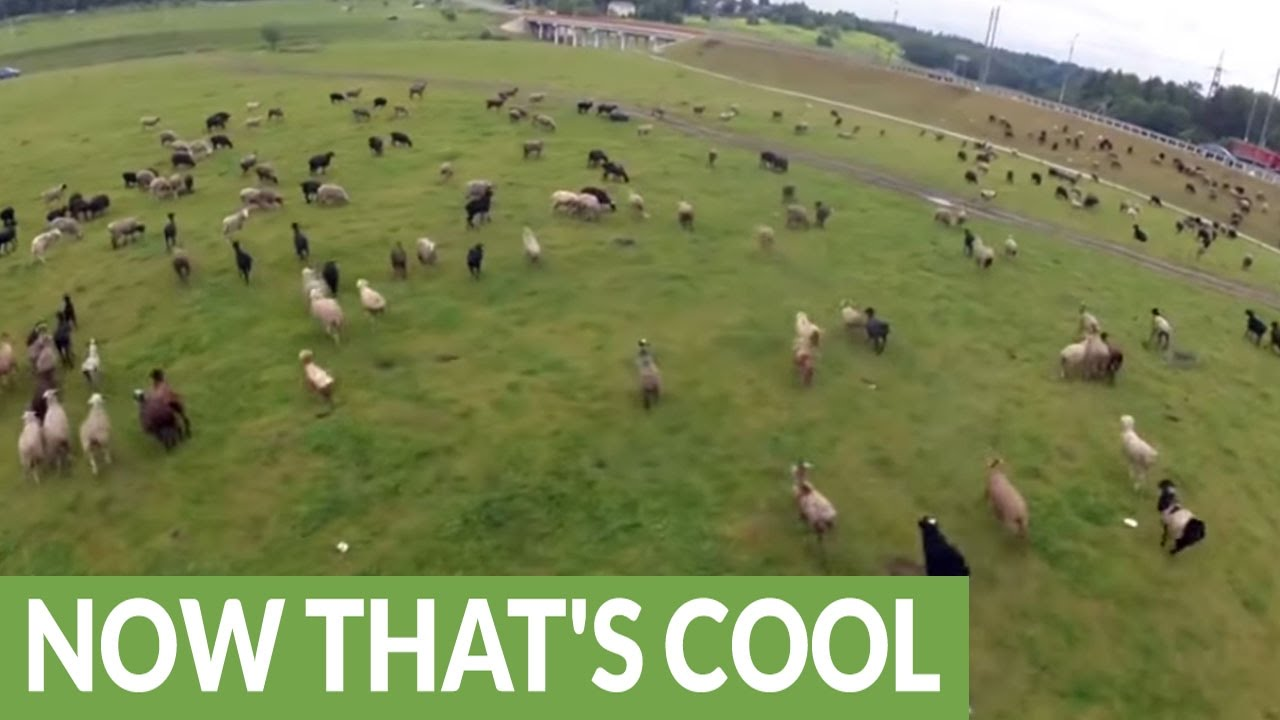sheep: (980, 438, 1047, 532), (922, 509, 979, 589), (1104, 413, 1164, 484), (300, 343, 361, 411), (779, 457, 829, 532), (1150, 479, 1200, 554), (154, 375, 200, 452), (11, 407, 54, 488), (780, 311, 830, 373), (19, 320, 57, 396), (1052, 338, 1114, 384), (82, 404, 120, 479), (623, 338, 661, 407), (47, 388, 89, 447), (134, 398, 177, 454), (67, 330, 111, 384), (238, 180, 298, 219), (352, 272, 394, 324), (192, 108, 244, 150), (1145, 300, 1193, 345), (859, 304, 900, 356), (1095, 337, 1137, 379), (454, 182, 490, 226), (242, 160, 290, 192), (29, 224, 62, 266), (51, 291, 76, 346), (597, 160, 646, 188), (206, 208, 246, 240), (1232, 304, 1266, 341), (679, 197, 710, 237), (310, 301, 340, 342), (225, 245, 255, 285), (776, 203, 807, 241), (416, 232, 444, 274), (159, 168, 203, 194), (702, 145, 733, 181), (169, 248, 196, 289), (52, 187, 78, 229), (302, 145, 335, 178), (318, 178, 350, 212), (508, 221, 532, 266), (164, 128, 192, 166), (559, 188, 597, 216), (325, 84, 375, 104), (621, 113, 658, 139), (44, 166, 73, 199), (388, 129, 421, 158), (255, 106, 298, 128), (464, 239, 488, 276), (85, 190, 112, 222), (516, 130, 540, 165), (965, 230, 995, 258), (287, 230, 310, 266), (292, 259, 314, 296), (107, 218, 133, 249), (621, 191, 647, 222), (759, 152, 796, 173), (364, 141, 388, 173), (480, 91, 510, 116), (690, 104, 723, 126), (759, 226, 785, 253), (159, 208, 177, 246), (1066, 311, 1093, 336), (409, 83, 439, 105), (1084, 187, 1107, 214), (1130, 218, 1157, 241), (319, 264, 340, 293), (585, 180, 611, 203), (779, 177, 801, 204), (832, 295, 850, 327), (977, 178, 1001, 201), (594, 97, 621, 117), (972, 149, 996, 171), (297, 176, 317, 201), (390, 241, 406, 272), (596, 144, 621, 163), (492, 89, 523, 103), (534, 112, 557, 130), (574, 93, 591, 116), (1184, 218, 1200, 237), (1059, 181, 1075, 198), (352, 107, 369, 119)
